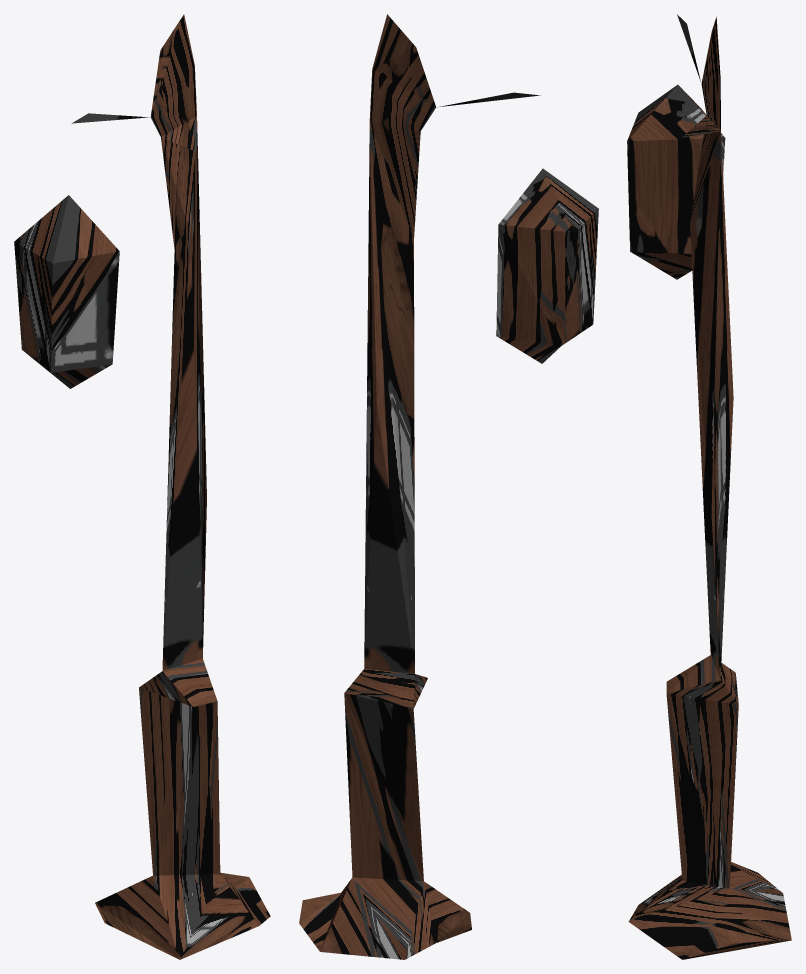
The model's file is post_light_lod2.glb.
3 views of the same model, side by side, from view 1: azimuth 30°, elevation 25°; view 2: azimuth 150°, elevation 25°; view 3: azimuth 270°, elevation 25° (orthographic).
Parts seen in each view (by area): view 1: geometry_0; view 2: geometry_0; view 3: geometry_0.
Boxes of the visible parts, bbox=[...] form: geometry_0: bbox=[14, 14, 270, 959]; geometry_0: bbox=[299, 14, 598, 959]; geometry_0: bbox=[627, 14, 791, 959].
Bounding box in the file's own units: 0.578 × 1.99 × 0.3262.
Materials: 1 (1 with a texture image).
